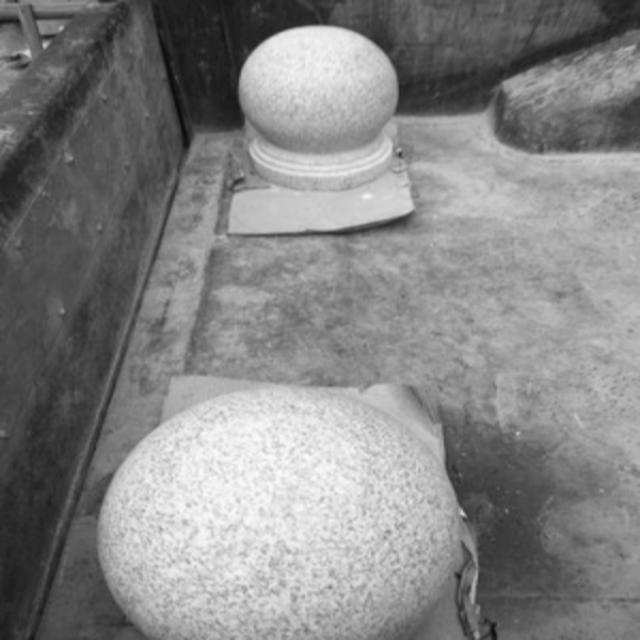spherical_roadblock: (96, 384, 457, 635), (237, 21, 401, 190)
